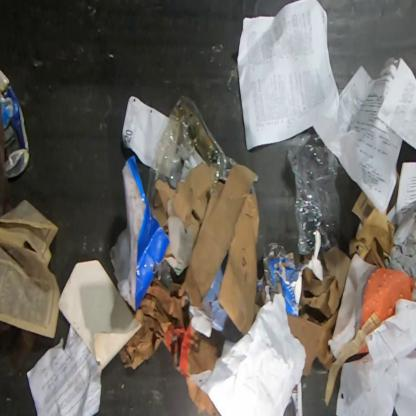cardboard: (150, 162, 260, 339), (287, 312, 339, 376)
metal: (0, 70, 30, 179)
rigid_plastic: (146, 95, 238, 204)
soft_plastic: (288, 133, 341, 255)
